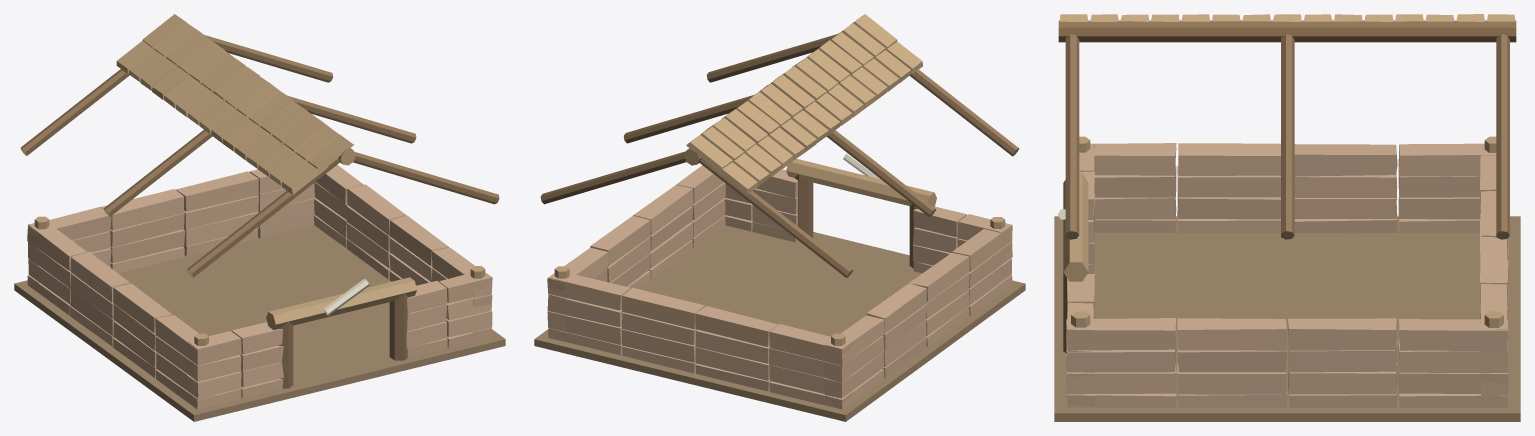
Rendered from building_chief_hall_half.glb.
3 renders of one model, left to right at view 1: azimuth 30°, elevation 25°; view 2: azimuth 150°, elevation 25°; view 3: azimuth 270°, elevation 25°, orthographic. The views are drawn at different scales.
Parts seen in each view (by area): view 1: building_chief_hall_half; view 2: building_chief_hall_half; view 3: building_chief_hall_half.
Boxes of the visible parts, x1=… form: building_chief_hall_half: x1=14, y1=14, x2=505, y2=421; building_chief_hall_half: x1=534, y1=14, x2=1025, y2=421; building_chief_hall_half: x1=1054, y1=14, x2=1520, y2=421.
Bounding box in the file's own units: 4.85 × 3.57 × 4.85.
